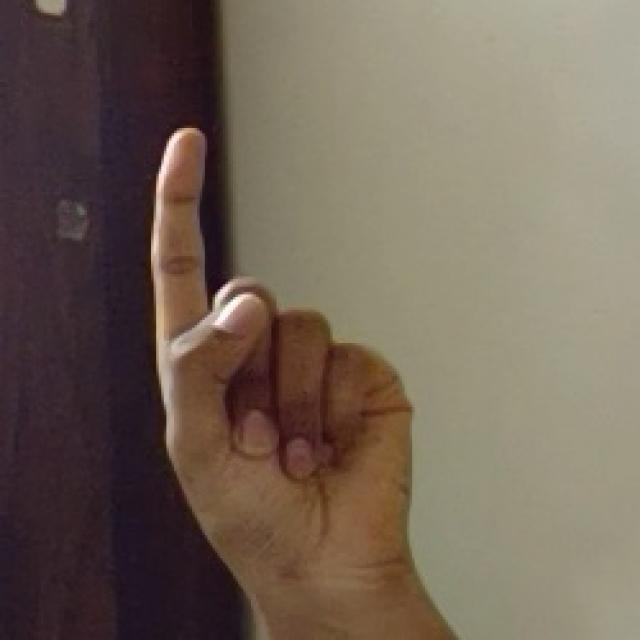Numeric-1: (148, 113, 417, 635)
